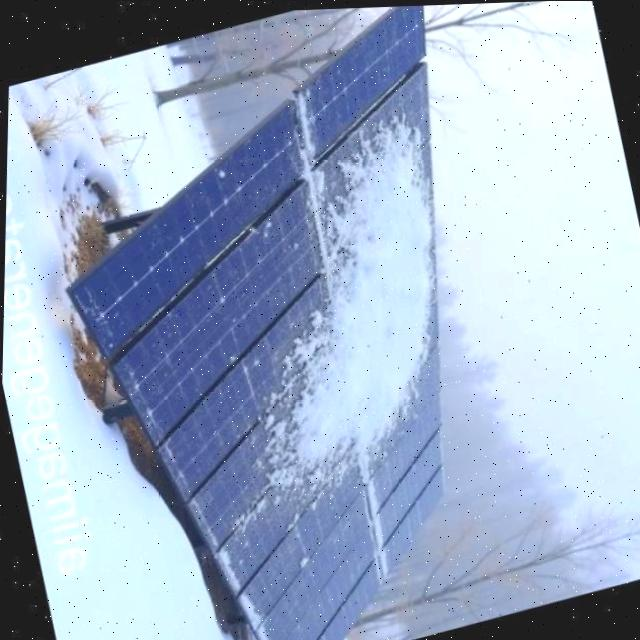Anomaly Solar Panel: (1, 2, 640, 640)
Snow: (231, 91, 467, 553), (367, 483, 392, 582)
